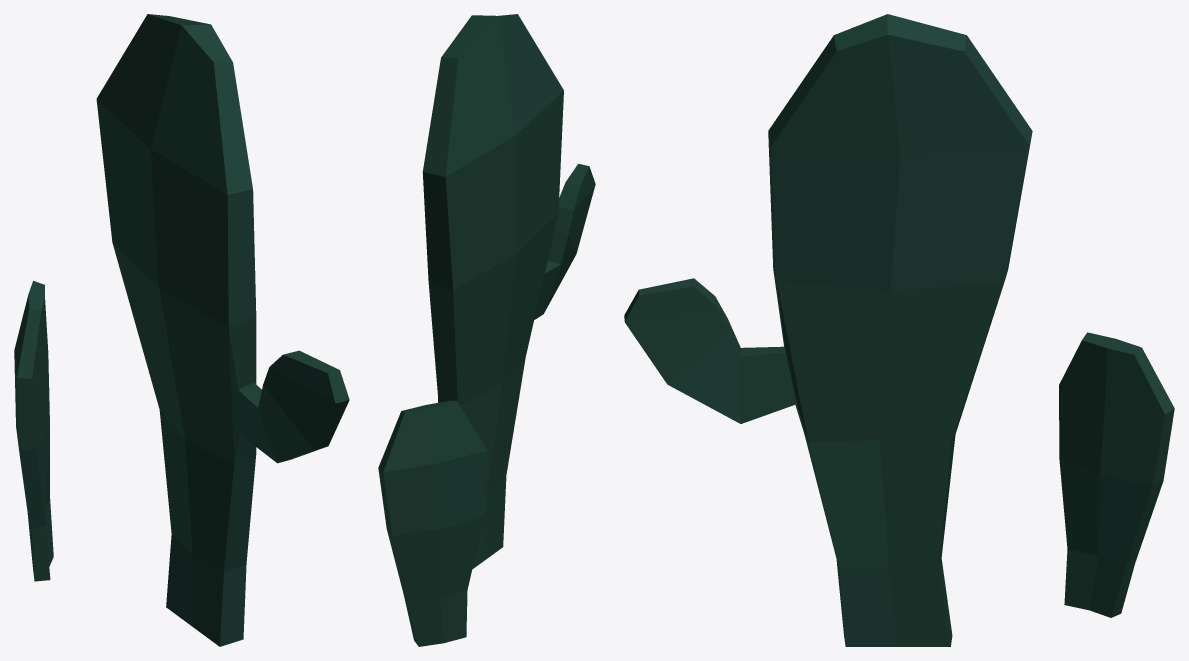
File: st1_tree7.fbx
3 views of the same model, side by side, from view 1: azimuth 30°, elevation 25°; view 2: azimuth 150°, elevation 25°; view 3: azimuth 270°, elevation 25° (orthographic). The views are drawn at different scales.
Visible parts, largest first — view 1: BezierCurve; view 2: BezierCurve; view 3: BezierCurve.
Part boxes in pixels (box(x1,y1,x2,y2)): BezierCurve: box(14, 14, 349, 646); BezierCurve: box(378, 14, 595, 646); BezierCurve: box(624, 14, 1174, 646).
Bounding box in the file's own units: 47.89 × 238 × 194.
